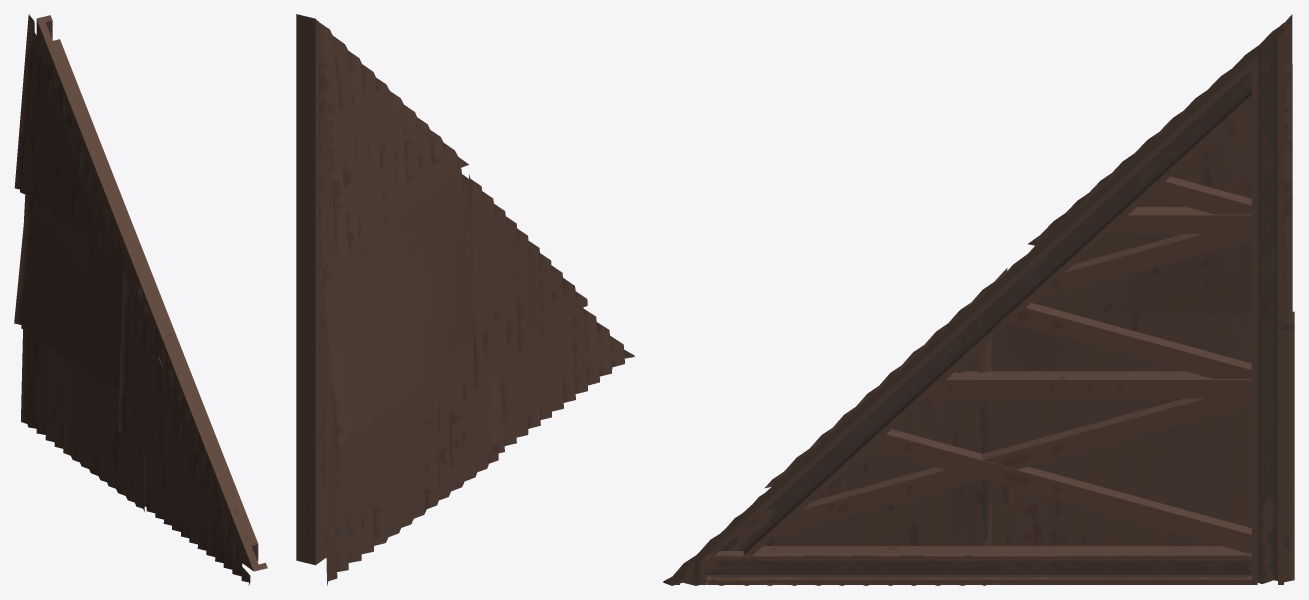
The model's file is SM_Polygonal_Metal_Sloped_Wall_Right.fbx.
3 renders of one model, left to right at view 1: azimuth 30°, elevation 25°; view 2: azimuth 150°, elevation 25°; view 3: azimuth 270°, elevation 25°, orthographic. The views are drawn at different scales.
Parts seen in each view (by area): view 1: SM_Polygonal_Metal_Sloped_Wall_Right_LOD0; view 2: SM_Polygonal_Metal_Sloped_Wall_Right_LOD0; view 3: SM_Polygonal_Metal_Sloped_Wall_Right_LOD0.
Boxes of the visible parts, x1,y1,x2,y2 form: SM_Polygonal_Metal_Sloped_Wall_Right_LOD0: (14,14,267,585); SM_Polygonal_Metal_Sloped_Wall_Right_LOD0: (296,14,634,585); SM_Polygonal_Metal_Sloped_Wall_Right_LOD0: (663,14,1294,585).
Bounding box in the file's own units: 26.8 × 310 × 310.
Materials: 1 (1 with a texture image).
